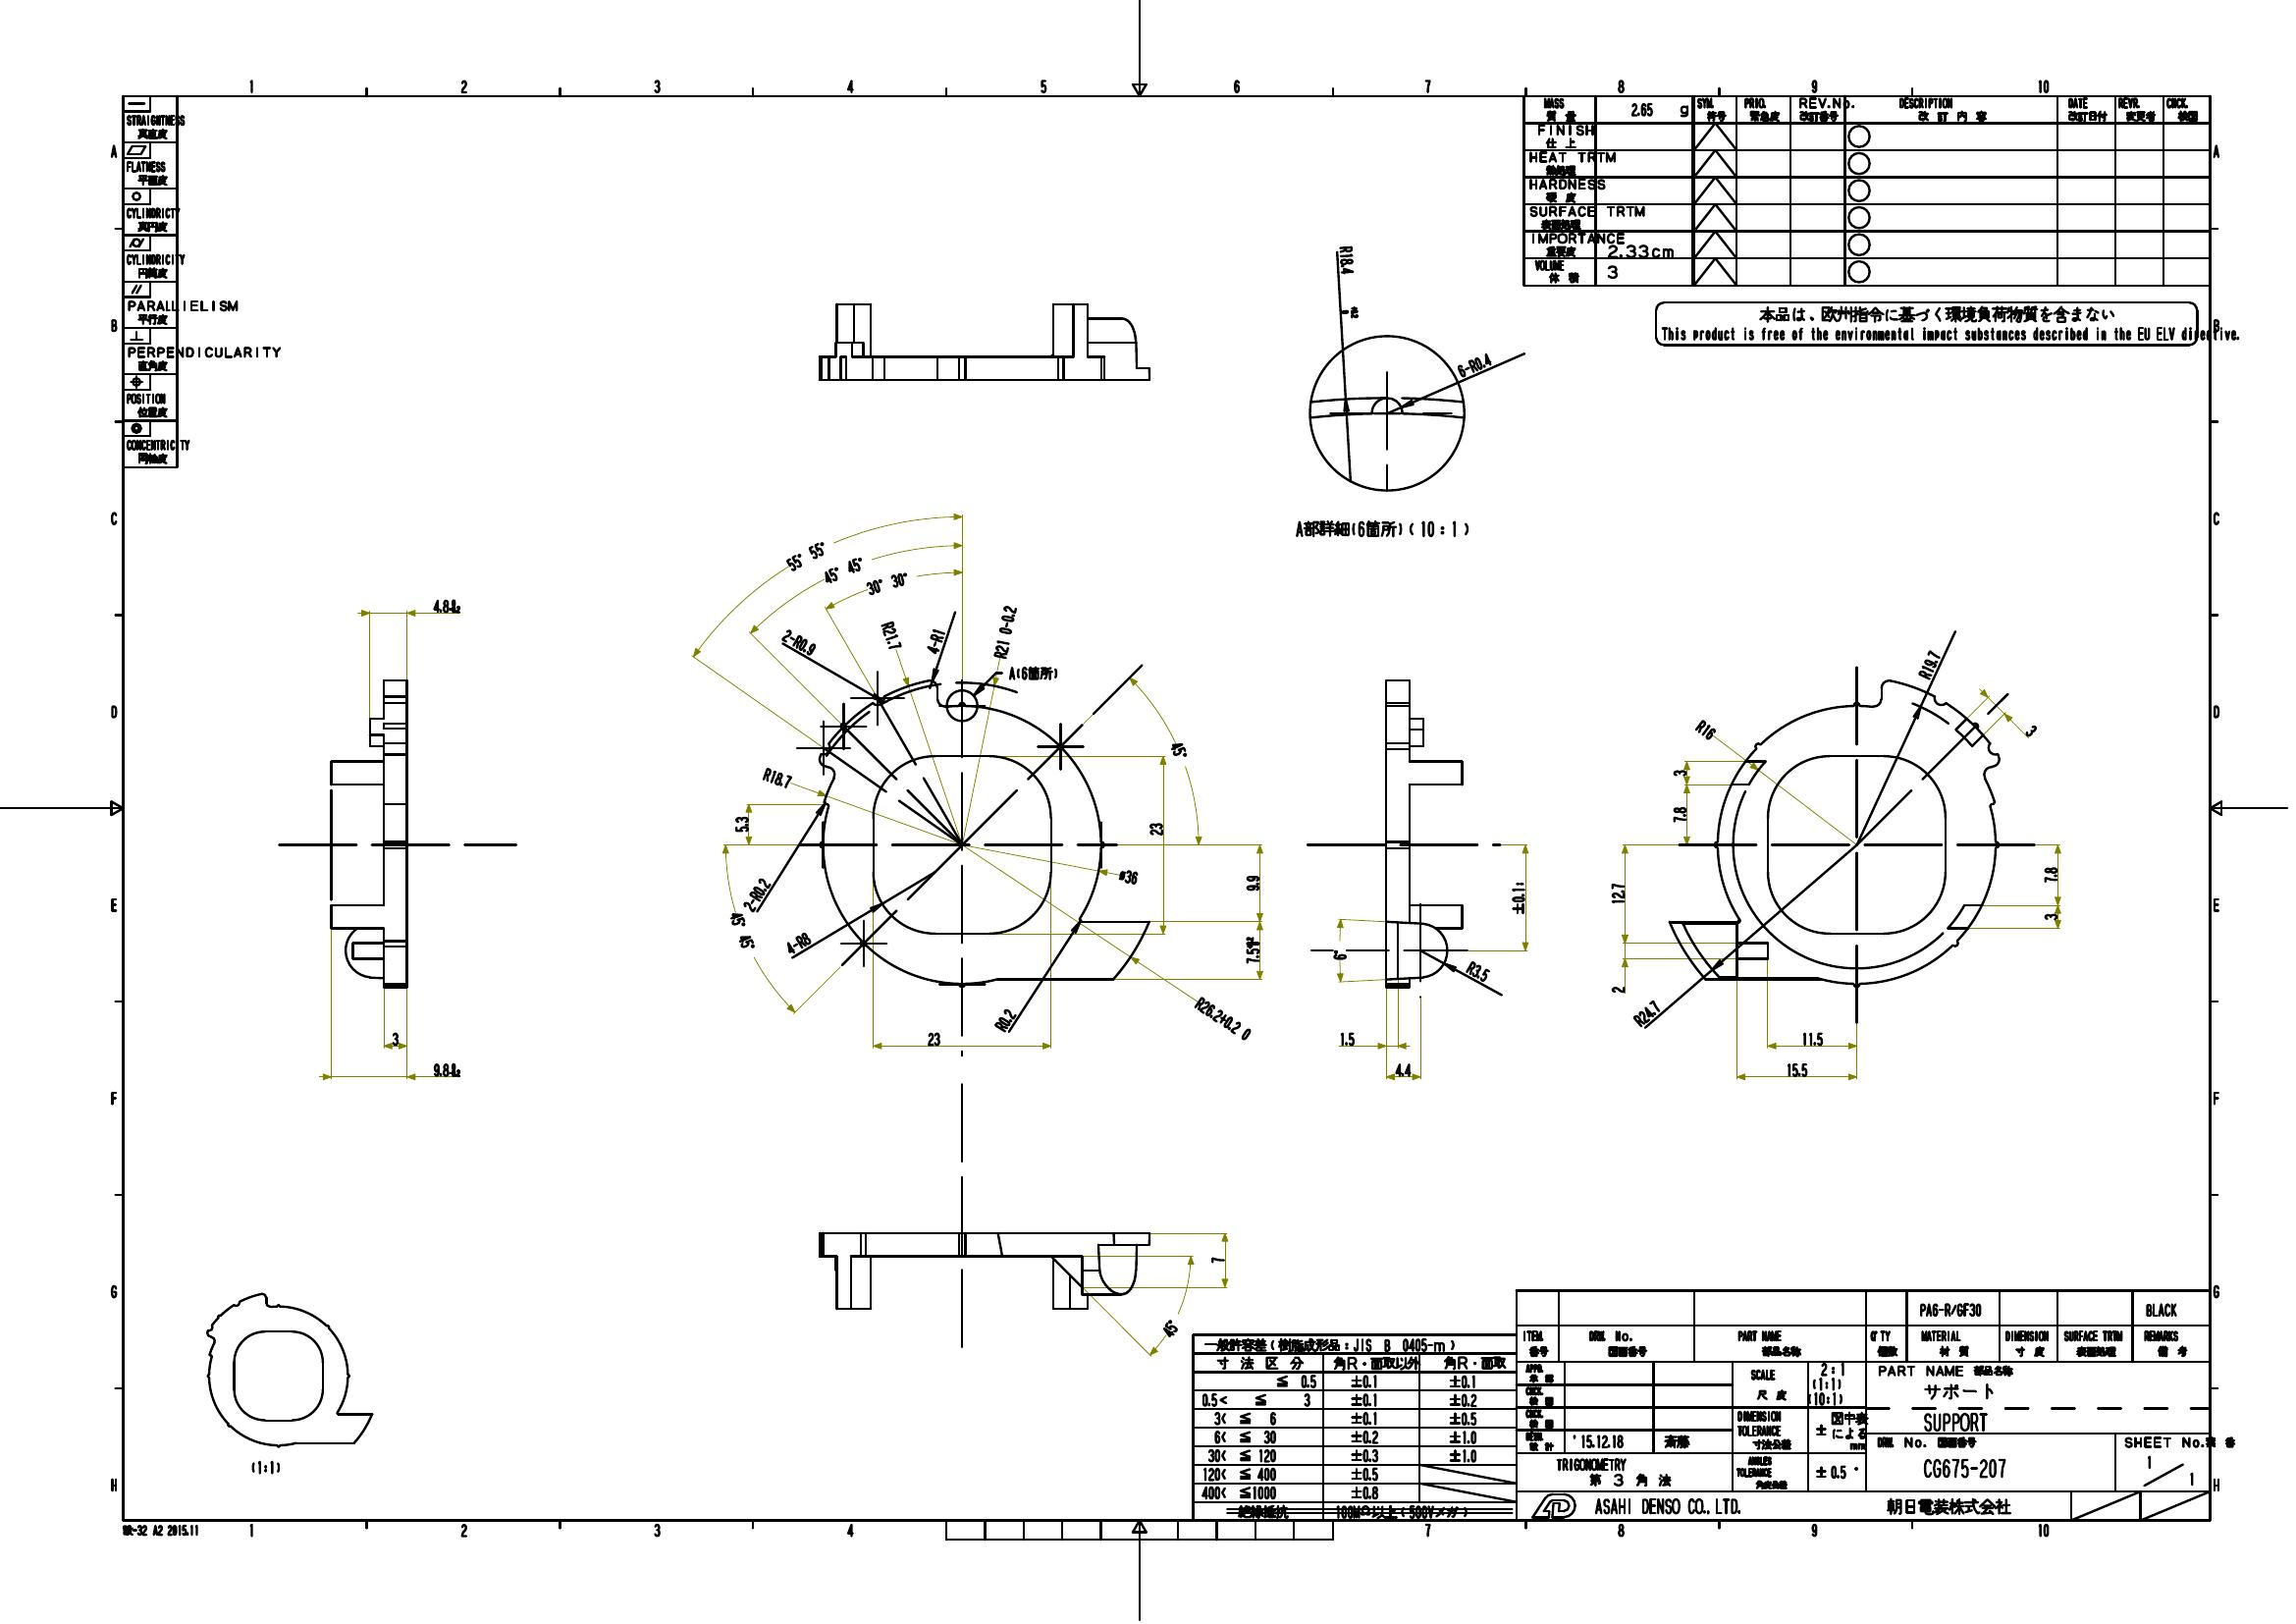anntotation_text: (1651, 297, 2245, 350), (1286, 513, 1477, 545), (116, 1520, 206, 1541), (244, 1454, 286, 1480), (1007, 664, 1058, 682)
dimension_text: (1182, 1004, 1268, 1032), (778, 536, 831, 569), (817, 559, 873, 582), (1455, 350, 1495, 380), (994, 603, 1015, 659), (727, 907, 752, 953), (736, 881, 778, 907), (778, 629, 822, 654), (1917, 647, 1941, 685), (761, 763, 791, 793), (1627, 1004, 1667, 1025), (429, 1056, 462, 1081), (429, 592, 464, 615), (782, 930, 812, 956), (1335, 241, 1356, 278), (1511, 875, 1528, 919), (864, 575, 910, 591), (1465, 958, 1491, 984), (1242, 935, 1265, 965), (926, 624, 945, 657), (880, 617, 899, 650), (994, 1004, 1015, 1033), (1692, 719, 1718, 738), (1799, 1028, 1825, 1048), (1667, 801, 1688, 824), (1116, 866, 1140, 886), (1785, 1060, 1811, 1077), (1159, 1318, 1179, 1341), (1609, 881, 1627, 905), (2041, 861, 2059, 884), (921, 1030, 943, 1048), (733, 812, 750, 835), (1242, 872, 1260, 895), (1337, 1028, 1356, 1048), (1168, 740, 1189, 758), (1330, 944, 1347, 963), (1393, 1062, 1412, 1077), (1147, 819, 1163, 838), (388, 1028, 402, 1048), (2024, 722, 2040, 738), (1669, 766, 1688, 779), (2040, 910, 2059, 923), (1607, 982, 1627, 995), (1209, 1253, 1224, 1267)
object: (812, 675, 1156, 993), (1669, 680, 2004, 990), (813, 295, 1154, 388), (323, 673, 420, 995), (1375, 675, 1470, 993), (813, 1227, 1154, 1313), (199, 1292, 376, 1452), (1300, 388, 1470, 497)
title_block: (1189, 1288, 2215, 1522), (1518, 90, 2219, 295), (116, 90, 183, 473)
